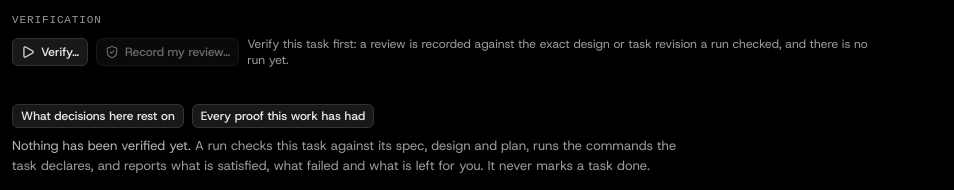
Test: running one › starts a run for this project's checkout and says what it is doing in a live region
This screenshot has width=954, height=190.
Click the button "Verify…" at (50, 52), box [12,38,88,66]
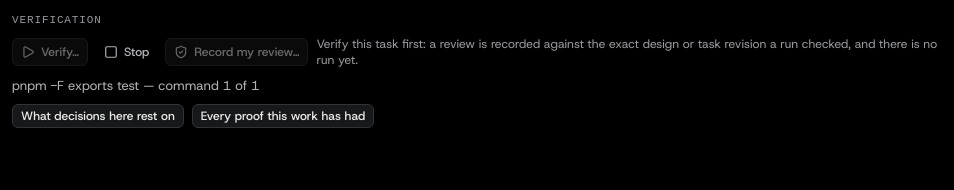
Result: the message "pnpm -F exports test — command 1 of 1" is shown at [12,77,260,94]
